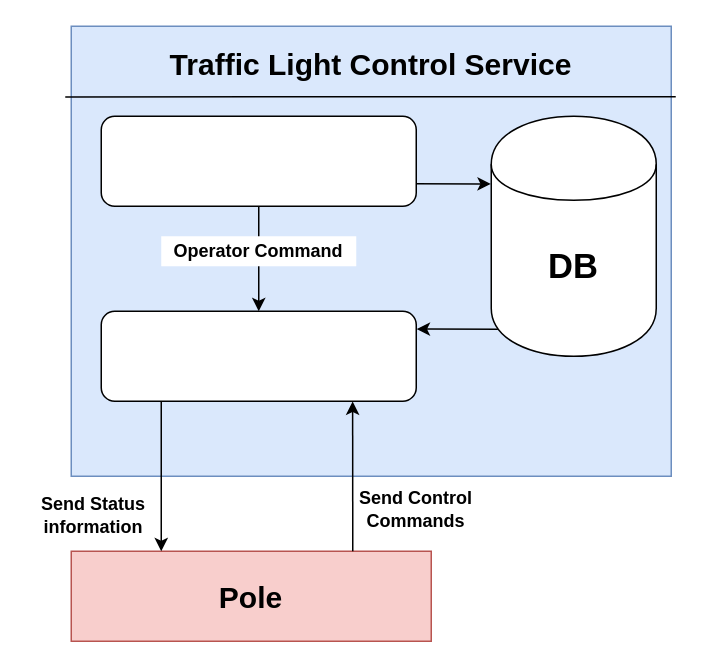
This 704x668 diagram has some shape labels left out. The shapes that lost their labels are listed below. From the top down, each one's centre as x and y in pixels, then its label:
At point (258, 160): "Visualization UI".
At point (258, 355): "Control".
